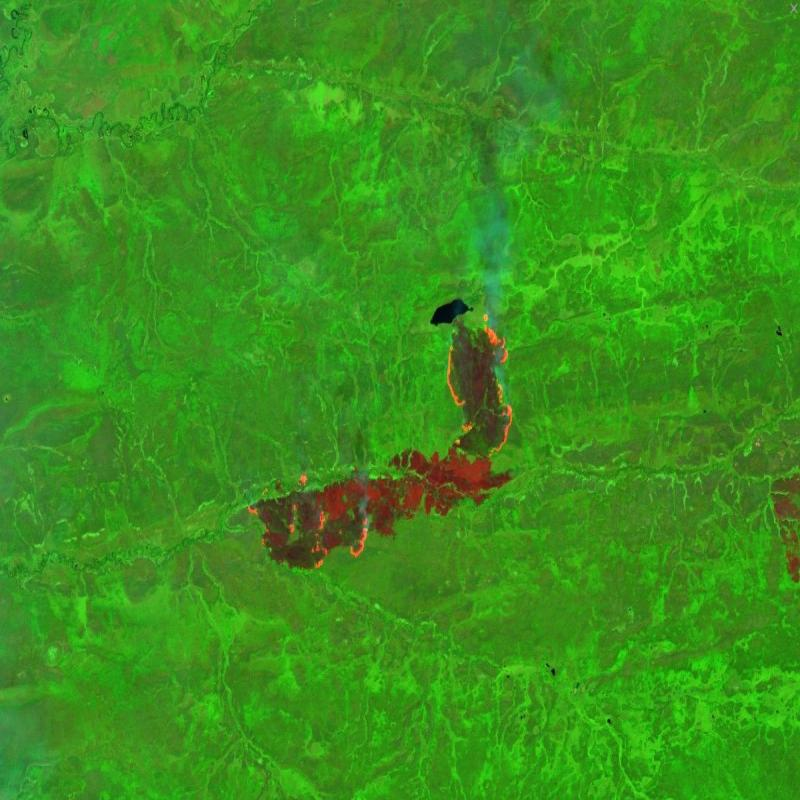fire: (244, 469, 371, 564), (442, 306, 517, 462)
